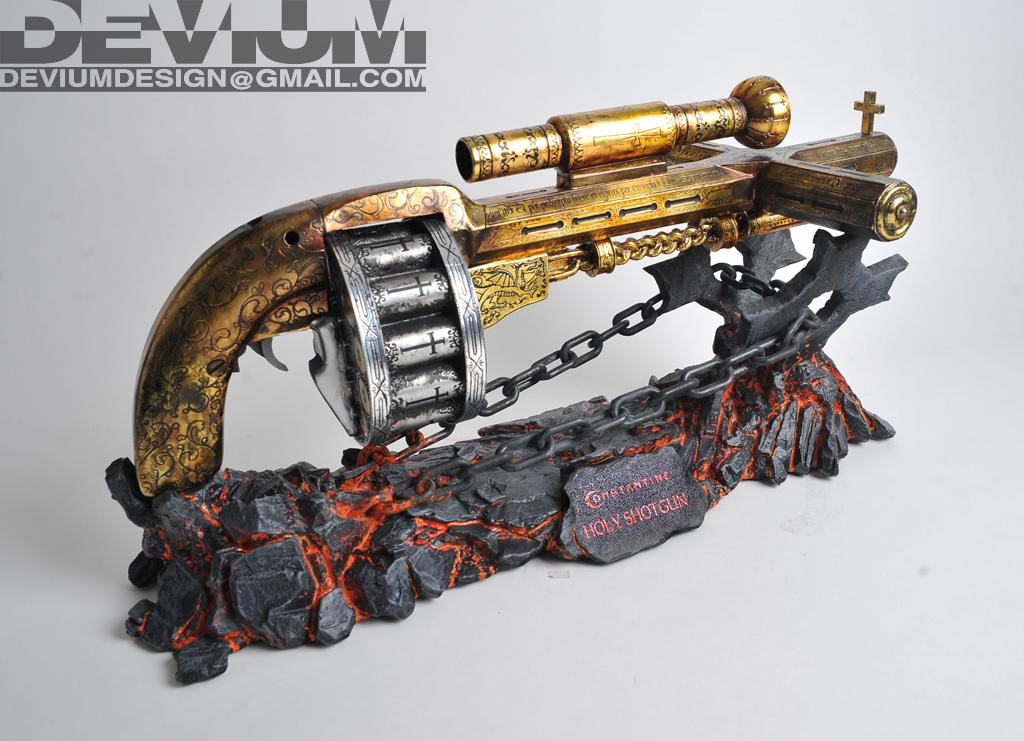weapon: (132, 73, 917, 497)
